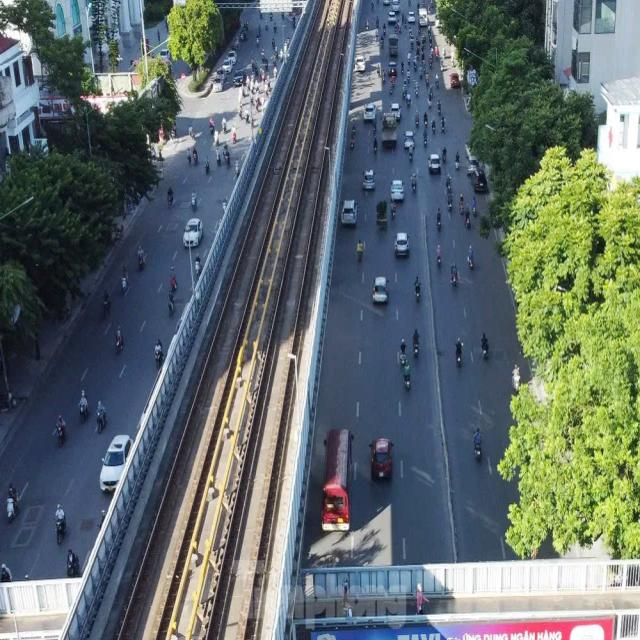car: (318, 426, 356, 537), (367, 432, 397, 490), (181, 215, 205, 250), (371, 275, 391, 309), (339, 196, 360, 228), (393, 227, 412, 260), (472, 166, 489, 198), (361, 162, 377, 195), (390, 173, 406, 205), (426, 149, 443, 178), (362, 98, 378, 124), (390, 98, 404, 124), (231, 64, 246, 88), (210, 75, 224, 95), (222, 55, 234, 77), (228, 43, 238, 68)
motobyte: (112, 324, 126, 359), (151, 334, 164, 370), (119, 263, 132, 298), (136, 242, 150, 273), (412, 274, 425, 306), (411, 323, 422, 360), (168, 264, 181, 294), (167, 287, 178, 321), (454, 336, 464, 371), (465, 242, 476, 273), (193, 251, 204, 282), (480, 328, 490, 362), (448, 258, 459, 288), (403, 357, 412, 392), (354, 237, 366, 263), (435, 240, 445, 271), (399, 336, 408, 370), (188, 184, 198, 214), (165, 185, 176, 212), (233, 154, 244, 178), (435, 204, 444, 233), (458, 191, 467, 218), (188, 121, 198, 145), (410, 171, 420, 194), (464, 203, 472, 230), (445, 170, 453, 196), (192, 142, 200, 168), (224, 143, 232, 169), (230, 123, 239, 146), (454, 148, 462, 173), (440, 112, 448, 136), (471, 194, 479, 218), (372, 134, 381, 155), (215, 143, 222, 170), (220, 114, 228, 137), (413, 108, 421, 130), (203, 153, 211, 175), (442, 142, 449, 165), (430, 117, 438, 137), (209, 115, 216, 136), (423, 107, 429, 131), (422, 128, 429, 148), (408, 144, 414, 164)
